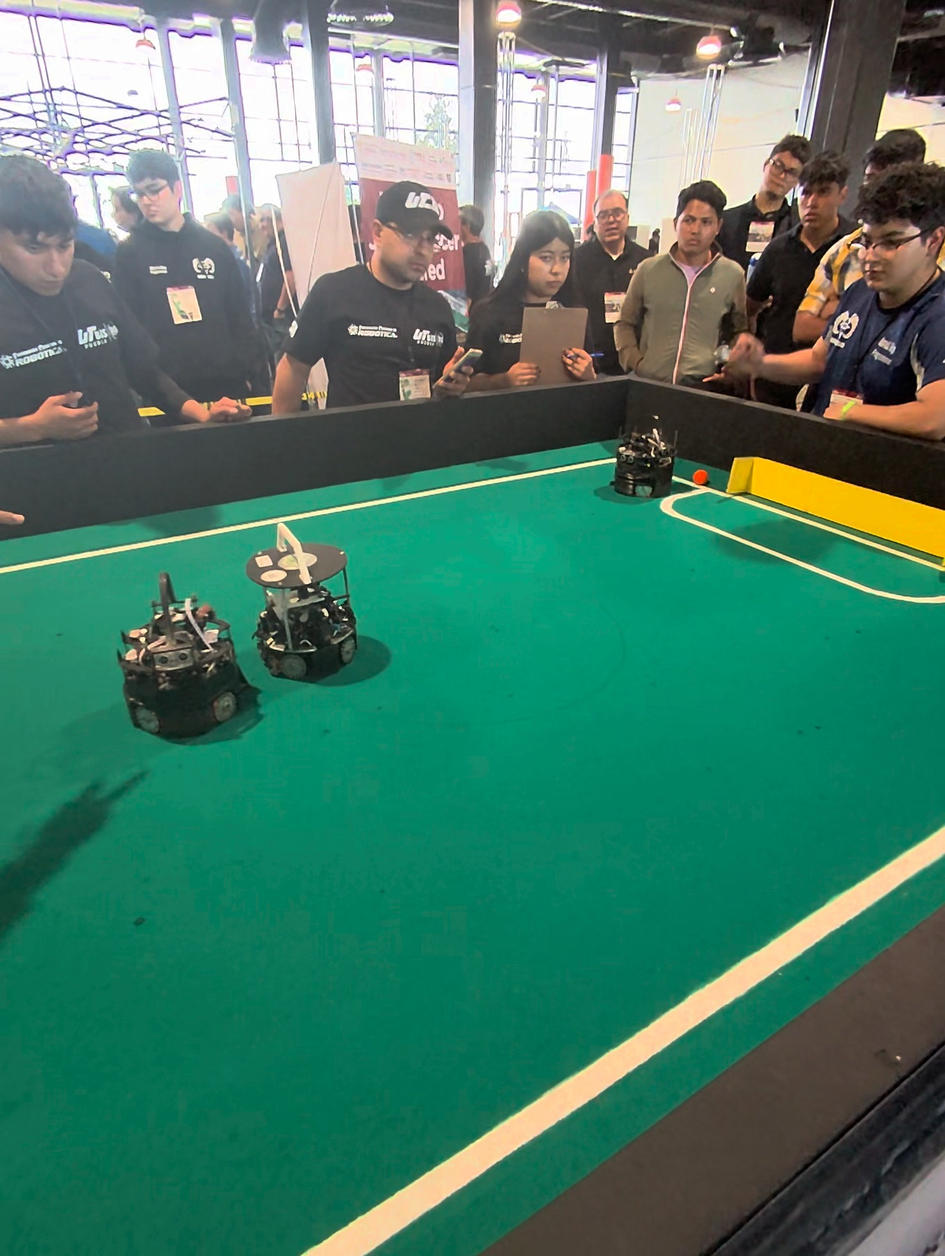Robot: (117, 578, 259, 753), (248, 528, 371, 692), (609, 384, 678, 503)
pelota: (685, 467, 718, 498)
